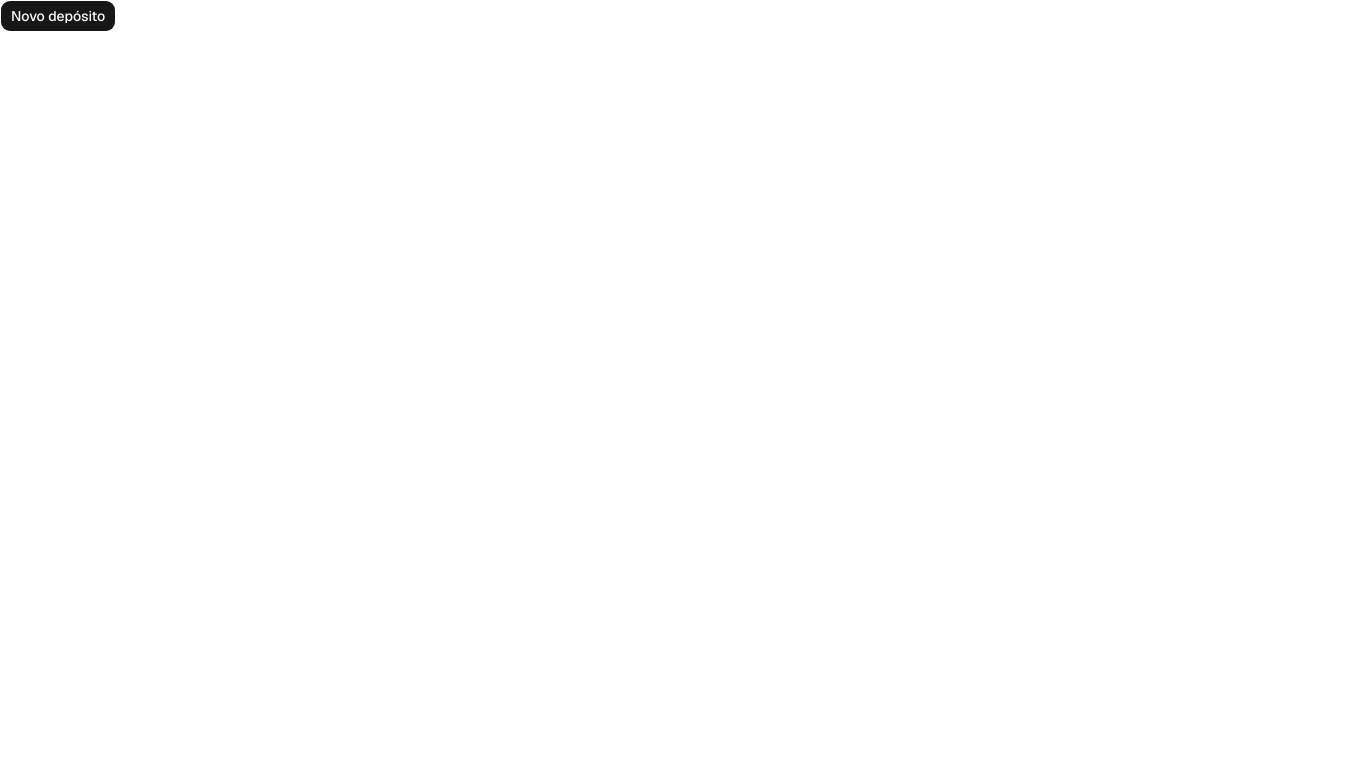
CreateWarehouseDialog › rejects a blank code before calling the action
This screenshot has width=1366, height=768.
Click the button "Novo depósito" at (58, 16), box [0,0,116,32]
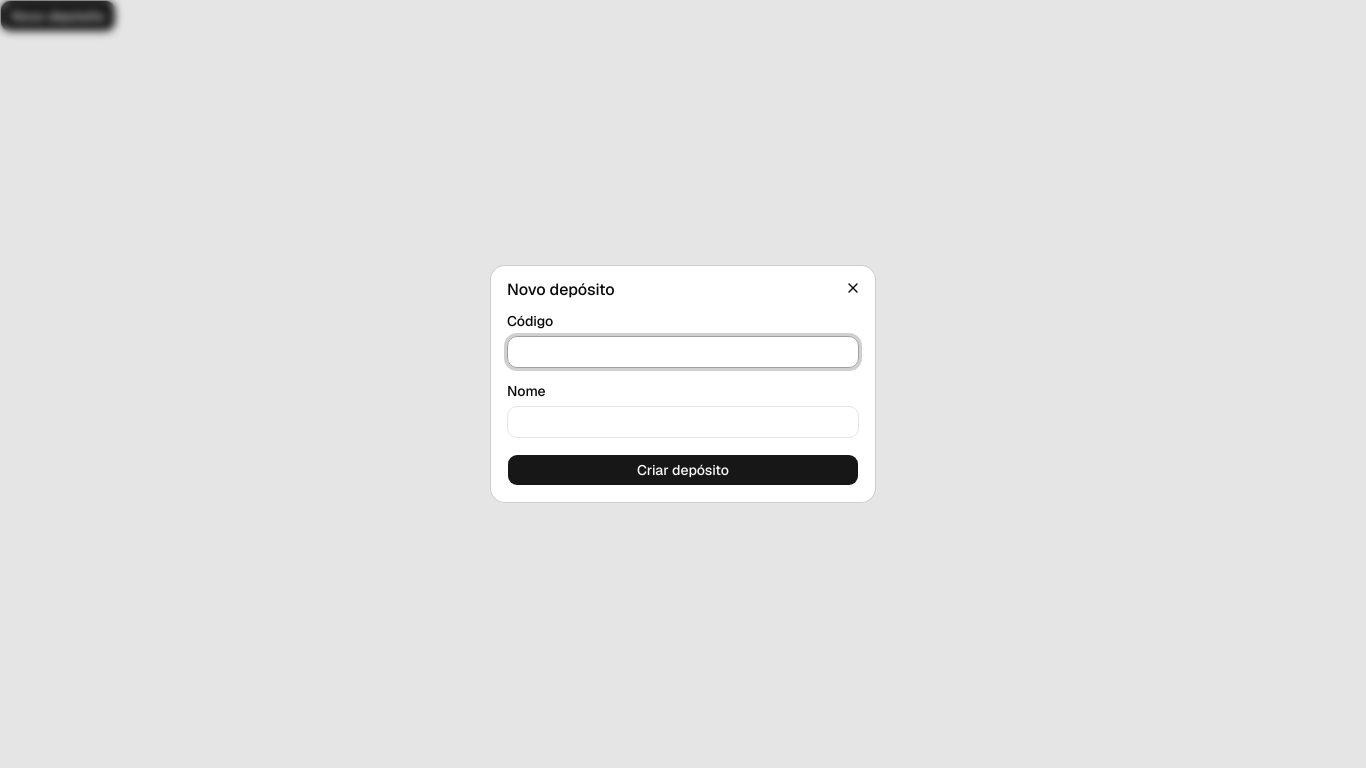
Type "Central" into the field labelled "Nome" at (683, 422), box [507,406,859,438]
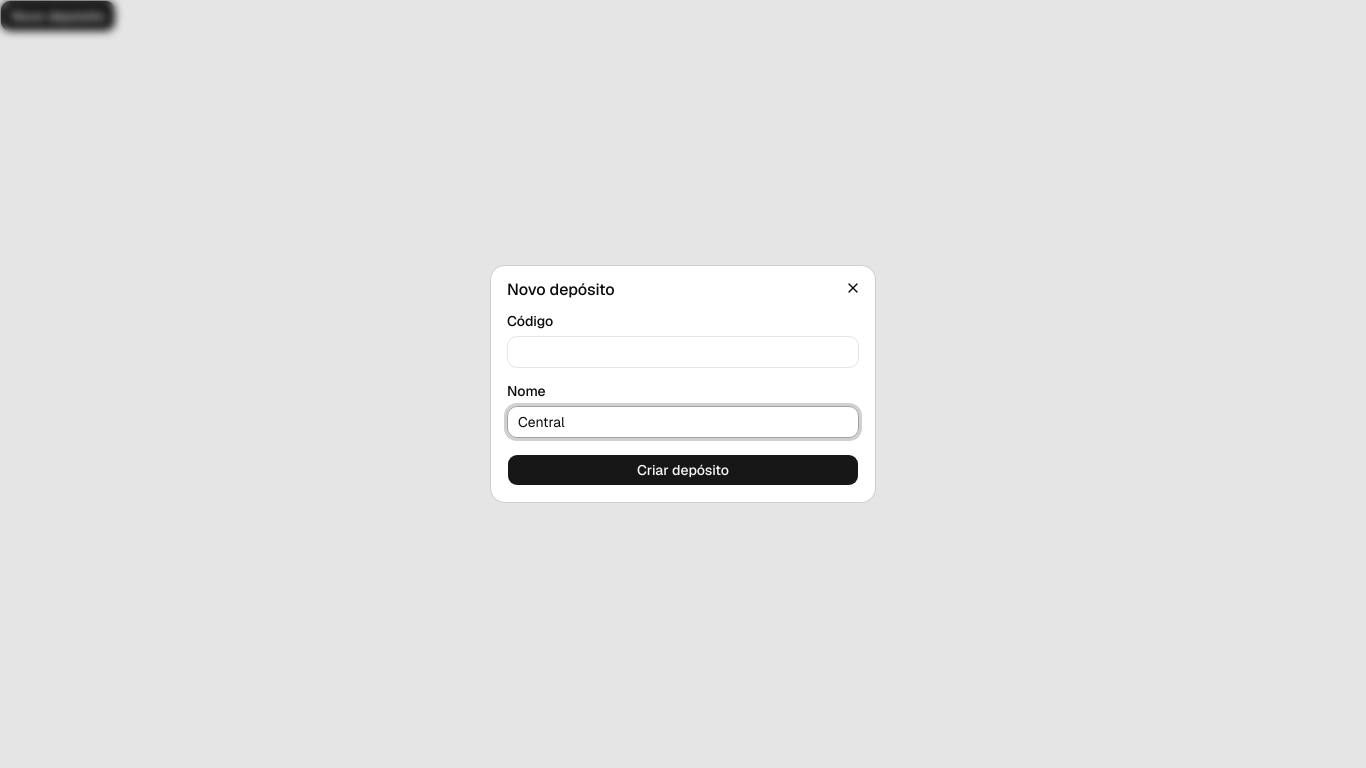
Click the button "Criar depósito" at (683, 470), box [507,454,859,486]
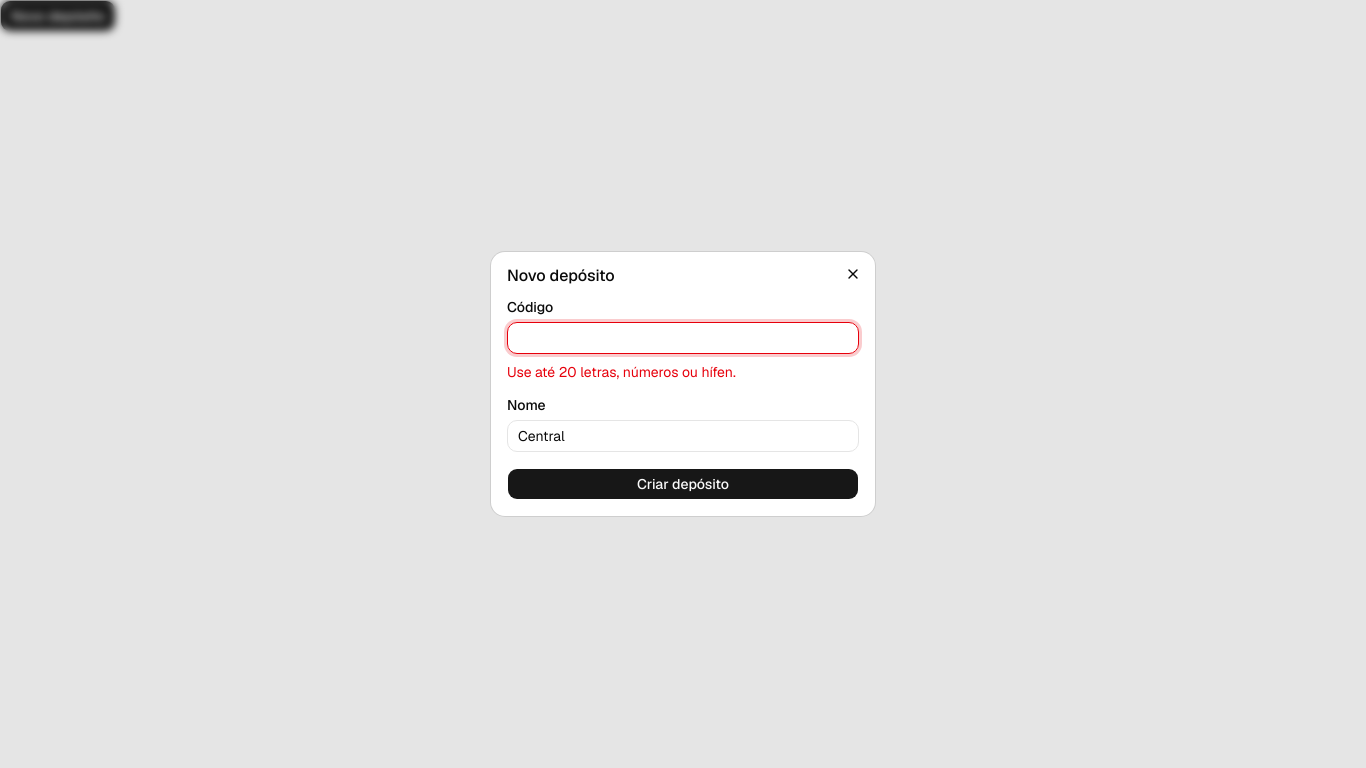
expect the dialog is shown: met, box [491,252,875,516]
expect the text "Use até 20 letras, números ou hífen." is shown: met, box [507,363,736,381]
